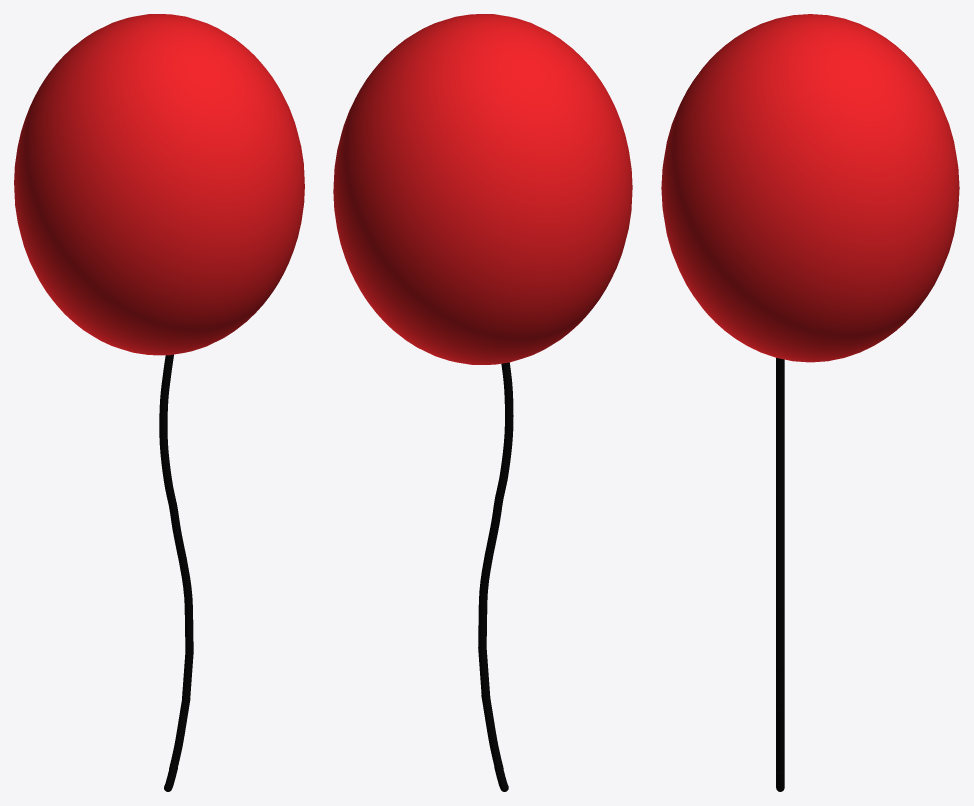
The model's file is clean red balloon.fbx.
The picture shows the model from 3 angles, left to right: view 1: azimuth 30°, elevation 25°; view 2: azimuth 150°, elevation 25°; view 3: azimuth 270°, elevation 25°; orthographic projection. The views are drawn at different scales.
Visible parts, largest first — view 1: root (×2), node_id112 (×2); view 2: root (×2), node_id112 (×2); view 3: root (×2), node_id112 (×2).
Part boxes in pixels (box(x1,y1,x2,y2)): root (×2): box(14, 14, 304, 563); node_id112 (×2): box(169, 557, 193, 771); root (×2): box(333, 14, 632, 556); node_id112 (×2): box(478, 551, 503, 771); root (×2): box(661, 14, 959, 564); node_id112 (×2): box(776, 564, 784, 772).
Bounding box in the file's own units: 0.3481 × 0.9967 × 0.3502.
Materials: 6 (2 with a texture image).
